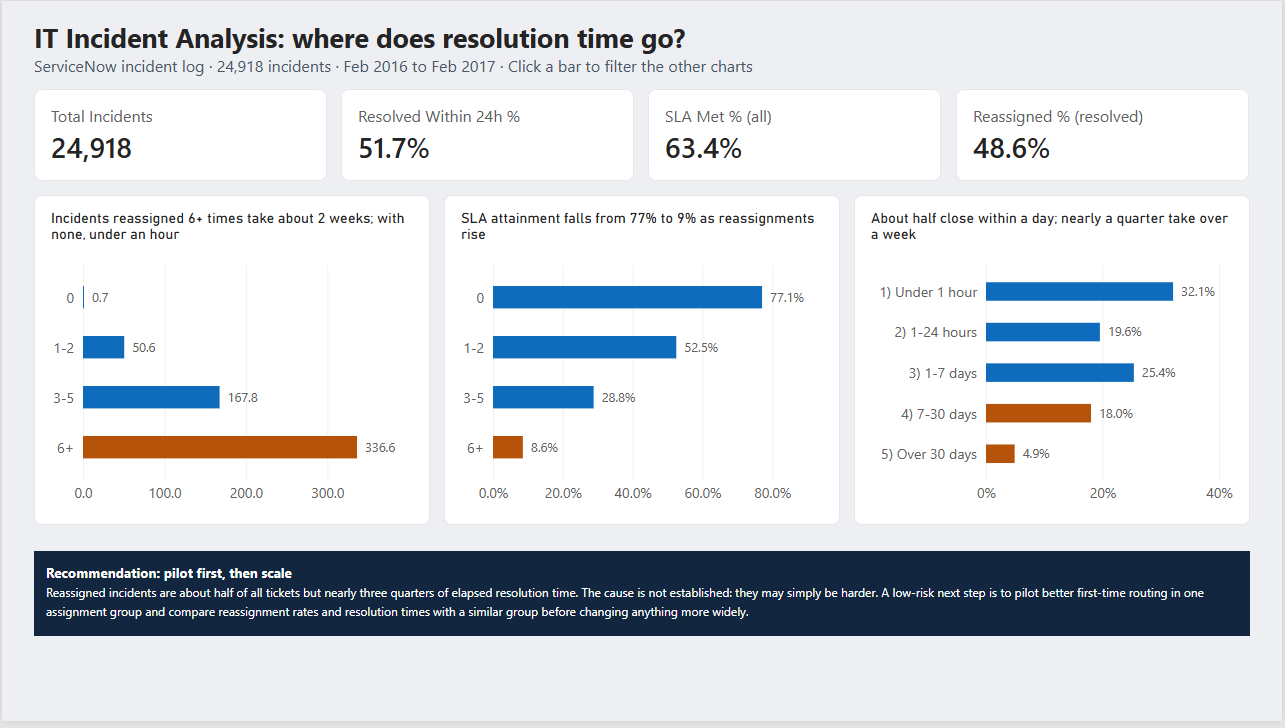

The page's visual inventory and layout, read from the dashboard file:
{"tool":"powerbi","page":{"name":"Overview","canvas":[1280,720],"ordinal":0},"visuals":[{"type":"clusteredBarChart","title":"SLA attainment falls from 77% to 9% as reassignments rise","fields":{"Category":["public incident_facts.reassignment_bucket"],"Y":["public incident_facts.SLA Met % (resolved)"]},"box":[442,194,396,330],"z":1000},{"type":"clusteredBarChart","title":"Incidents reassigned 6+ times take about 2 weeks; with none, under an hour","fields":{"Category":["public incident_facts.reassignment_bucket"],"Y":["public incident_facts.Median Resolution Hrs"]},"box":[32,194,396,330],"z":2000},{"type":"clusteredBarChart","title":"About half close within a day; nearly a quarter take over a week","fields":{"Category":["public incident_facts.resolution_bucket"],"Y":["public incident_facts.Share of Resolved (by bucket)"]},"box":[852,194,396,330],"z":3000},{"type":"cardVisual","fields":{"Data":["public incident_facts.Total Incidents"]},"box":[32,88,293,92],"z":4000},{"type":"cardVisual","fields":{"Data":["public incident_facts.Resolved Within 24h %"]},"box":[339,88,293,92],"z":5000},{"type":"cardVisual","fields":{"Data":["public incident_facts.SLA Met % (all)"]},"box":[646,88,293,92],"z":6000},{"type":"cardVisual","fields":{"Data":["public incident_facts.Reassigned % (resolved)"]},"box":[954,88,293,92],"z":7000},{"type":"textbox","box":[32,18,900,40],"z":8000},{"type":"textbox","box":[32,54,1000,26],"z":9000},{"type":"textbox","box":[32,550,1216,85],"z":10000}]}

Visuals, with their boxes in screenshot pixels (x1, y1, x2, y2), scaled from the page's 1280x720 canvas onto the 1285x728 screenshot:
"SLA attainment falls from 77% to 9% as reassignments rise" clusteredBarChart: (444, 196, 841, 530)
"Incidents reassigned 6+ times take about 2 weeks; with none, under an hour" clusteredBarChart: (32, 196, 430, 530)
"About half close within a day; nearly a quarter take over a week" clusteredBarChart: (855, 196, 1253, 530)
cardVisual - public incident_facts.Total Incidents: (32, 89, 326, 182)
cardVisual - public incident_facts.Resolved Within 24h %: (340, 89, 634, 182)
cardVisual - public incident_facts.SLA Met % (all): (649, 89, 943, 182)
cardVisual - public incident_facts.Reassigned % (resolved): (958, 89, 1252, 182)
textbox: (32, 18, 936, 59)
textbox: (32, 55, 1036, 81)
textbox: (32, 556, 1253, 642)
